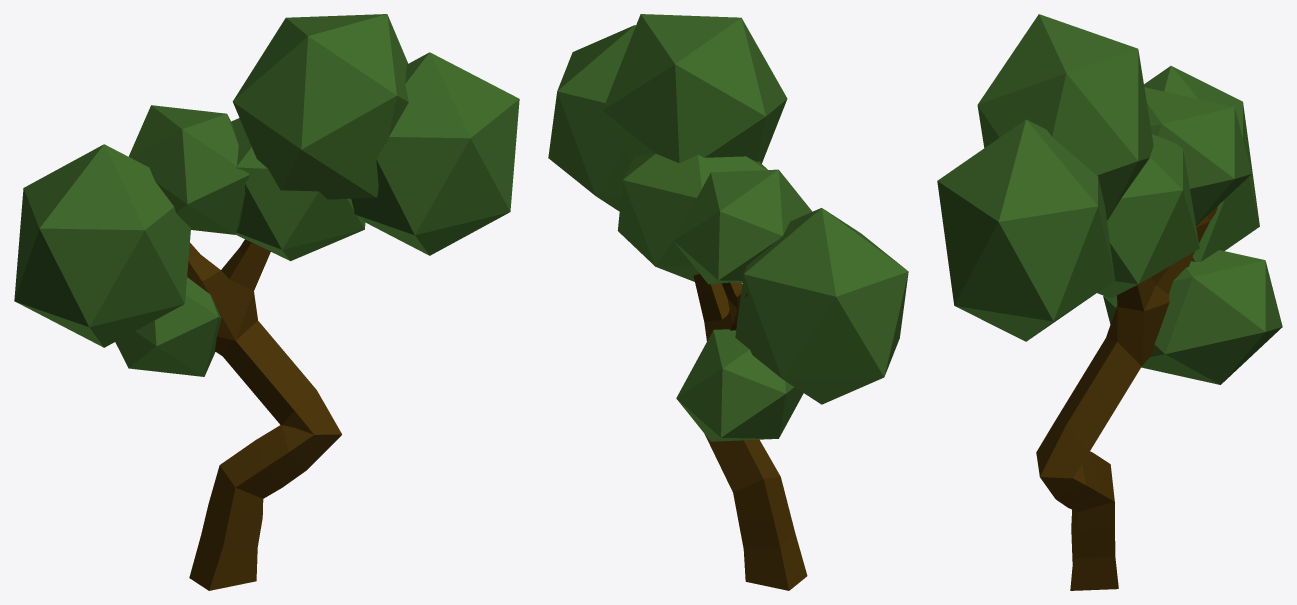
Rendered from agac1.fbx.
3 renders of one model, left to right at view 1: azimuth 30°, elevation 25°; view 2: azimuth 150°, elevation 25°; view 3: azimuth 270°, elevation 25°, orthographic. The views are drawn at different scales.
Visible parts, largest first — view 1: Icosphere.005; view 2: Icosphere.005; view 3: Icosphere.005.
Boxes of the visible parts, left/top/right/bottom form: Icosphere.005: left=14, top=14, right=519, bottom=590; Icosphere.005: left=548, top=14, right=908, bottom=590; Icosphere.005: left=937, top=14, right=1282, bottom=590.
Size of the model in its own units: 352 by 444 by 233.
